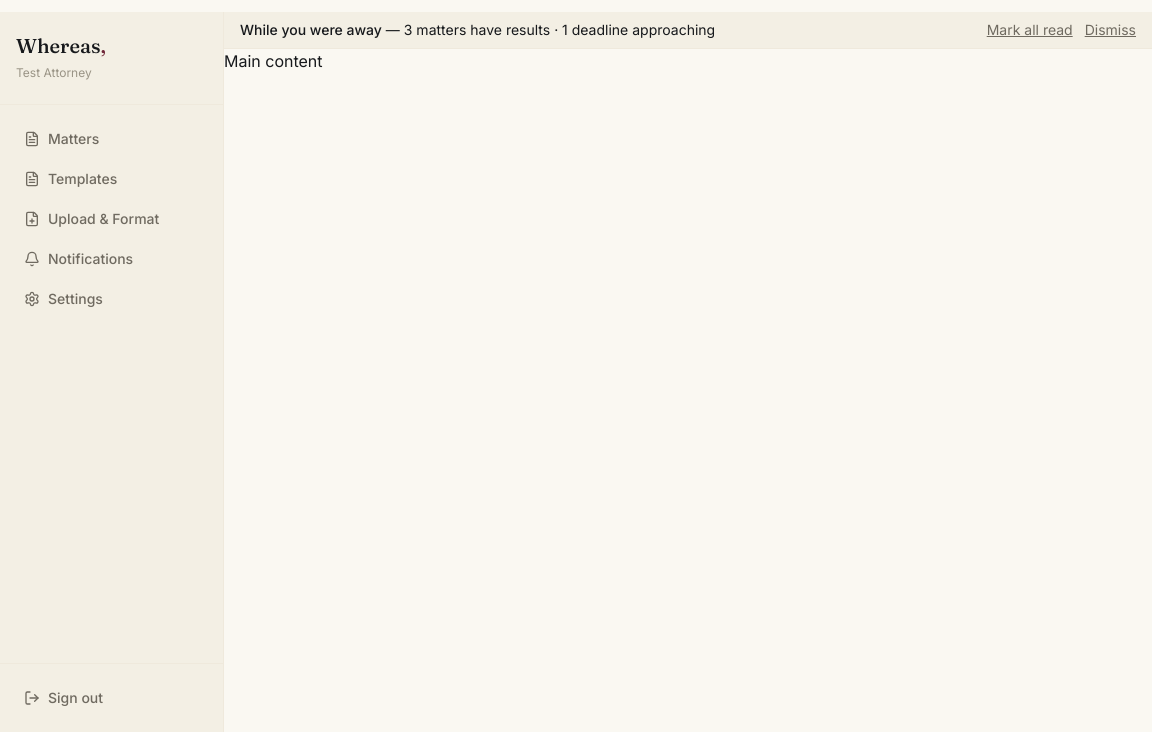
Test: AppShell — NOTIFY-SUITE-1 N1 "while you were away" digest banner › flag ON + unread -> the digest banner shows the summary; Dismiss hides it for the session
Expected: the element with test id "notify-digest" shows "While you were away", 240,21 -> 382,38
Expected: the element with test id "notify-digest" shows "3 matters have results · 1 deadline approaching", 404,21 -> 715,38
Click the button with test id "notify-digest-dismiss": click(1110, 30) 1085,20 -> 1136,40
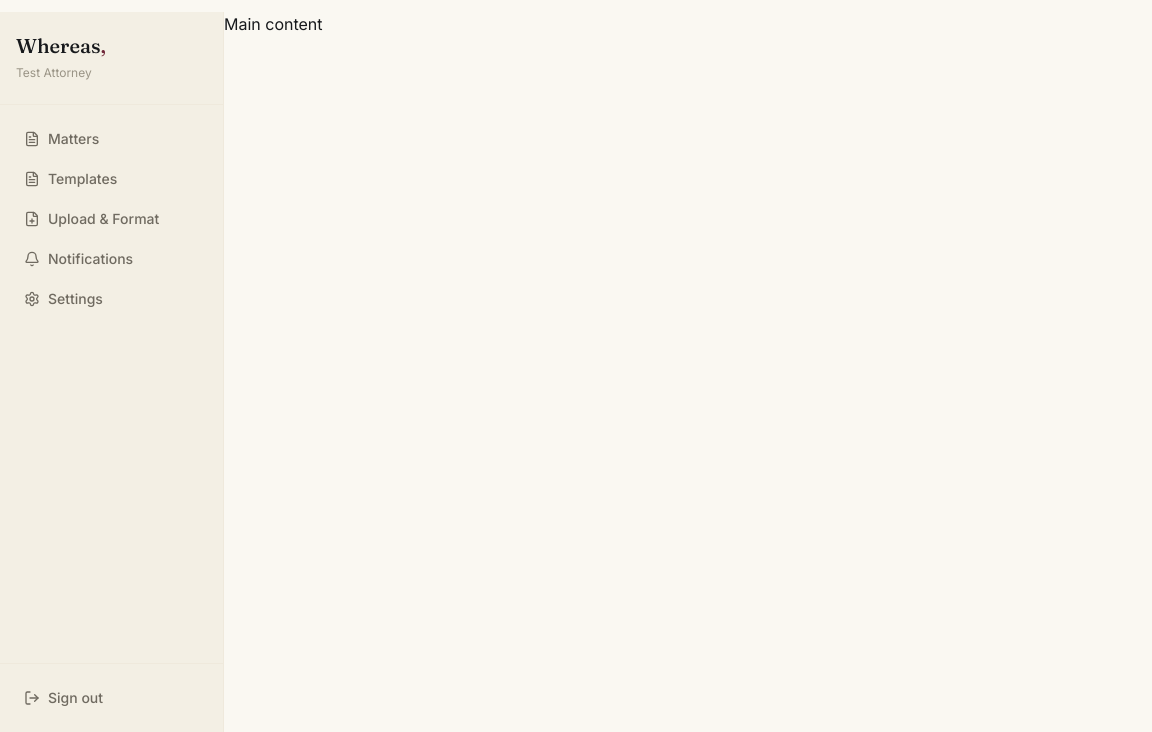
Now the element with test id "notify-digest" is gone
